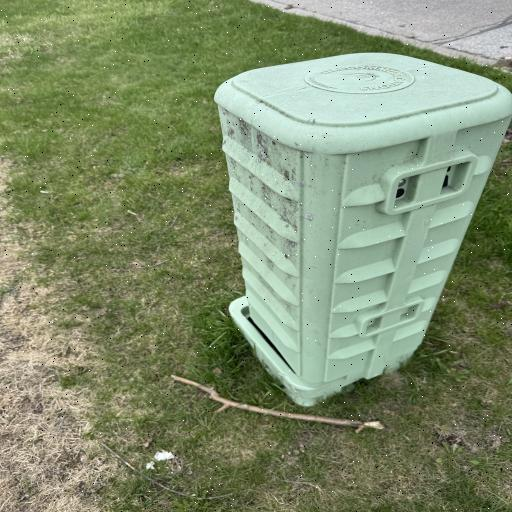Electrical Box: (212, 47, 512, 406)
